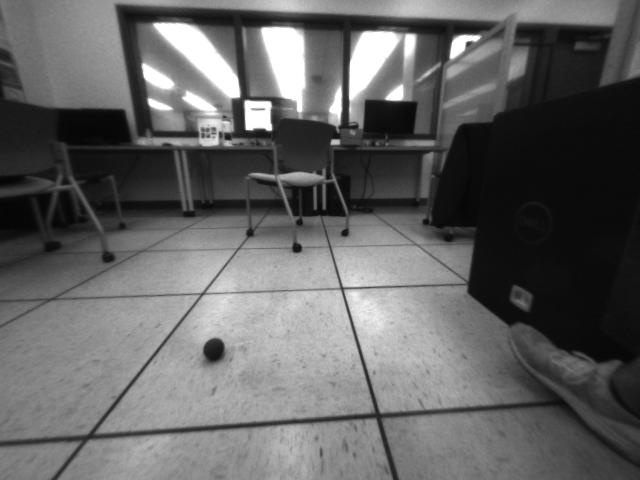dogtoy: (197, 326, 232, 369)
